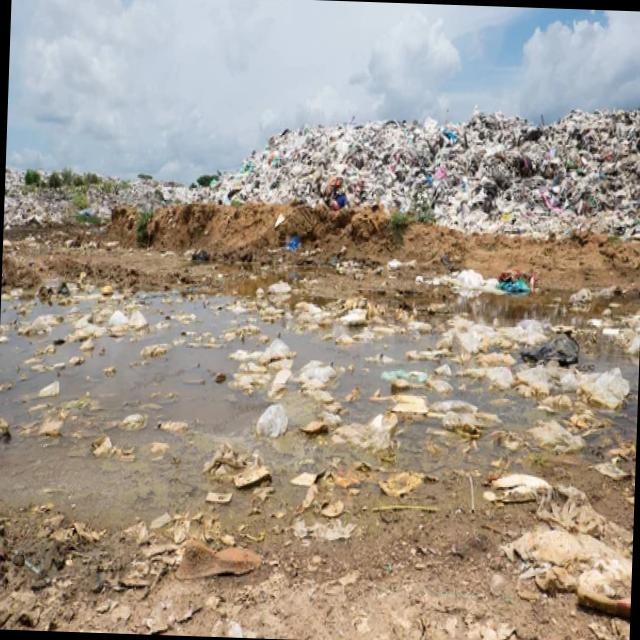garbage: (3, 100, 640, 246)
